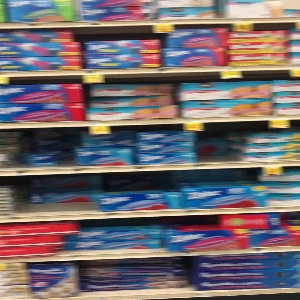void: (21, 171, 98, 215), (17, 132, 76, 169), (198, 126, 247, 163)
